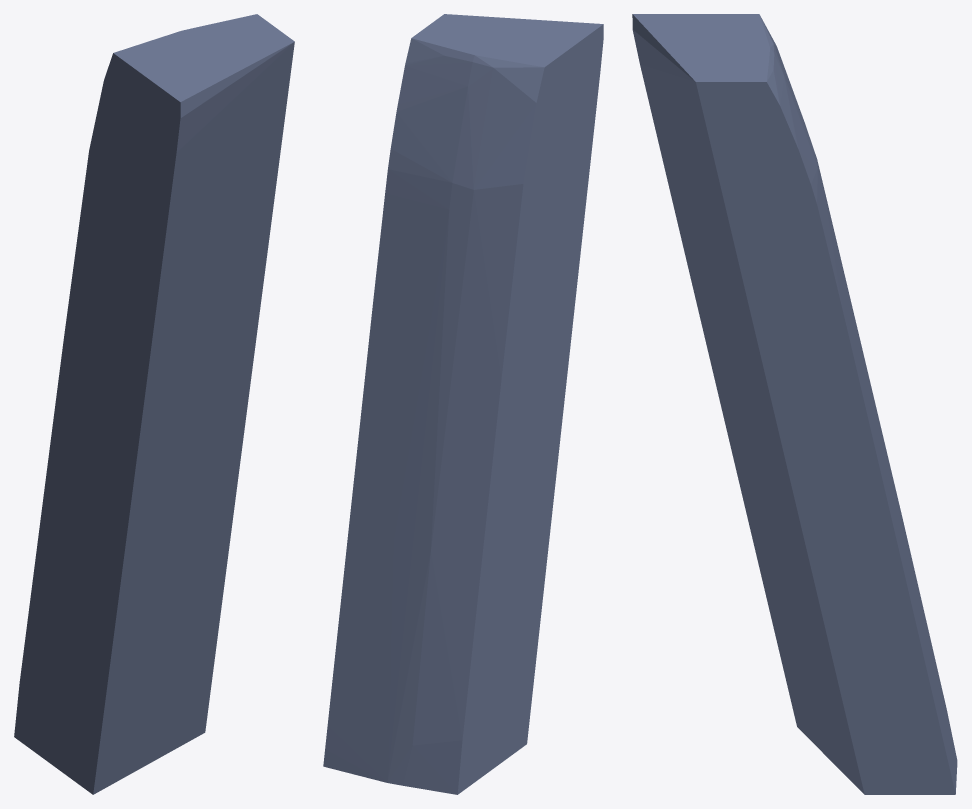
File: right-shoulder-pitch-0_part_62.obj
The picture shows the model from 3 angles, left to right: view 1: azimuth 30°, elevation 25°; view 2: azimuth 150°, elevation 25°; view 3: azimuth 270°, elevation 25°; orthographic projection. The views are drawn at different scales.
Bounding box in the file's own units: 0.00854 × 0.0417 × 0.0172.
